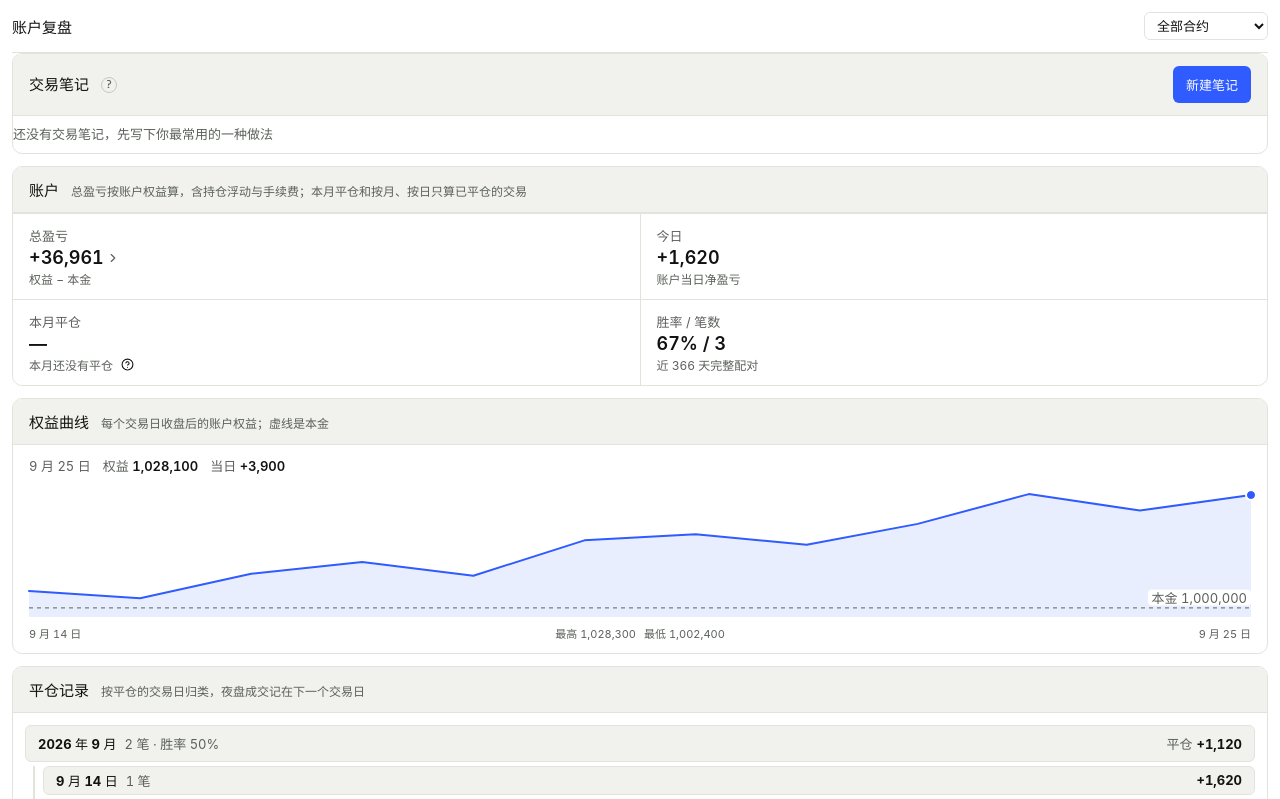
Test: 本月平仓 without closes this month, the 权益曲线 over every stored day with the principal, and the night-session hint
Expected: the text "本月还没有平仓" is shown, [29,358,136,373]
Press the mouse on the element with class "account-equity-plot" at (640, 551), box [29,485,1251,617]
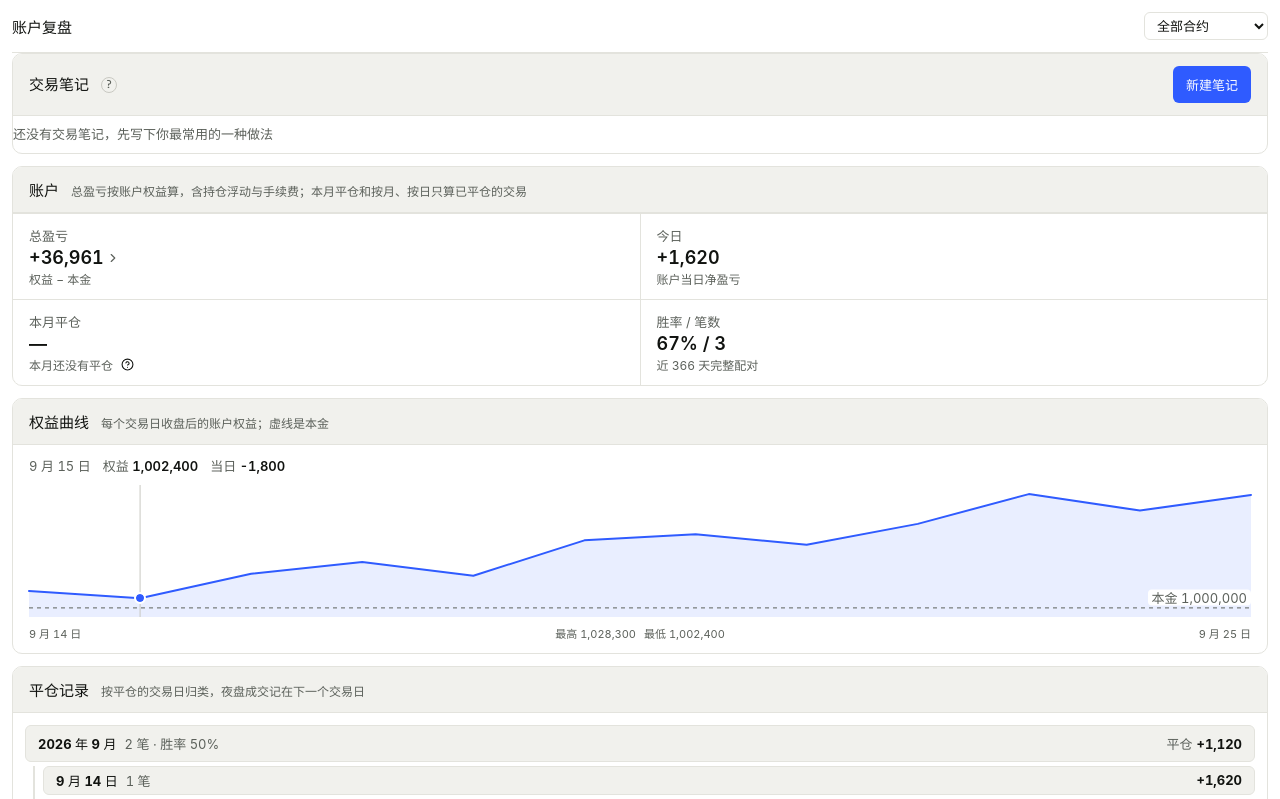
Expected: the text "按平仓的交易日归类，夜盘成交记在下一个交易日" is shown, [101,682,365,699]
Expected: the element with class "account-equity-readout" reads "9 月 15 日 权益 1,002,400 当日 -1,800", [29,458,285,474]
